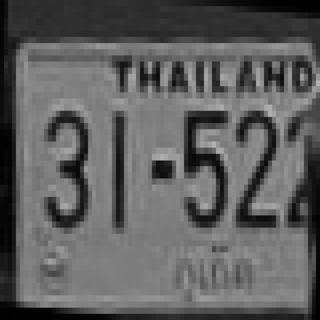P48: (156, 238, 265, 316)
